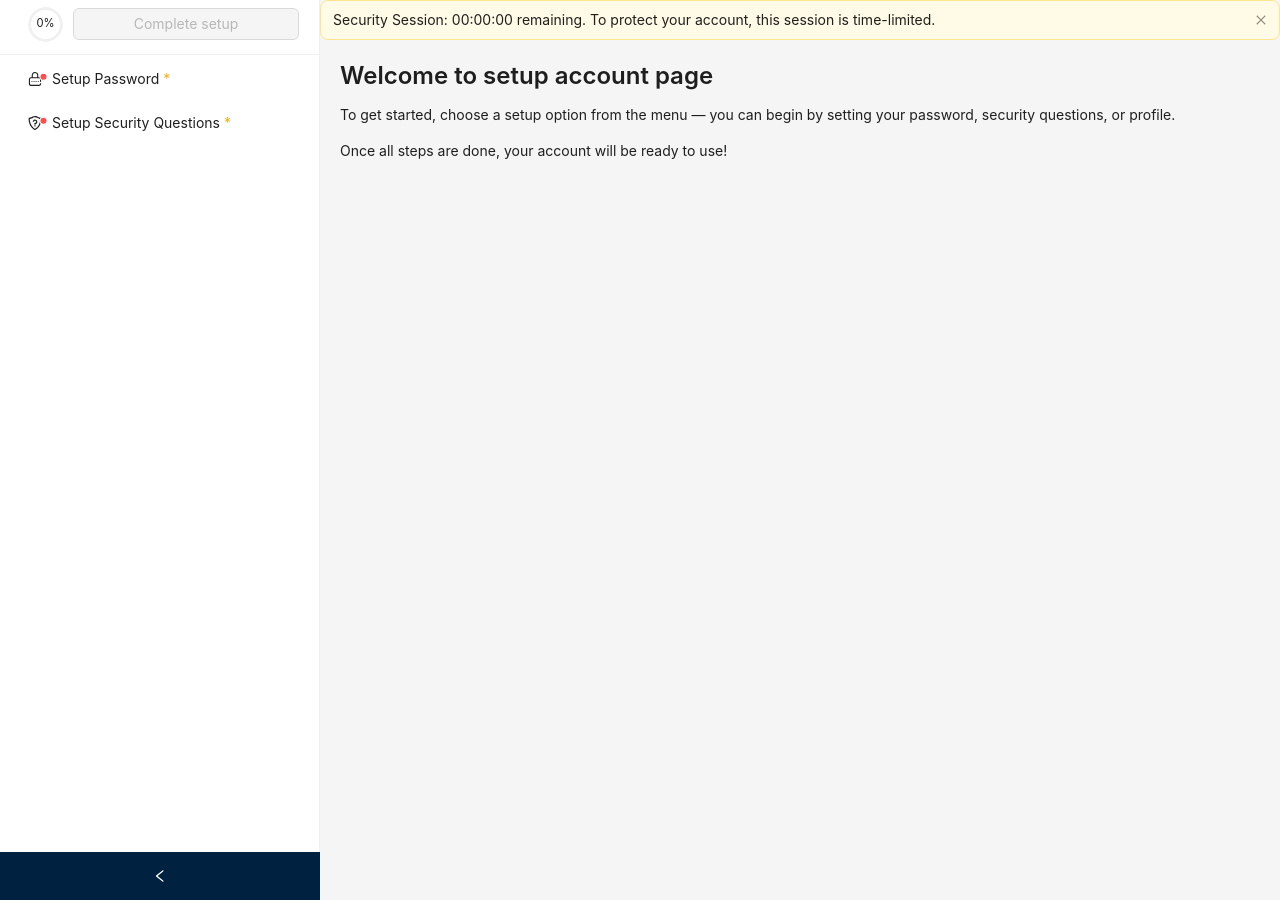
Test case: SetupAccountPage - Password setup flow › should render Setup password form correctly
This screenshot has width=1280, height=900.
Click the menu item "Setup Password *" at (99, 78), box [28,70,170,87]
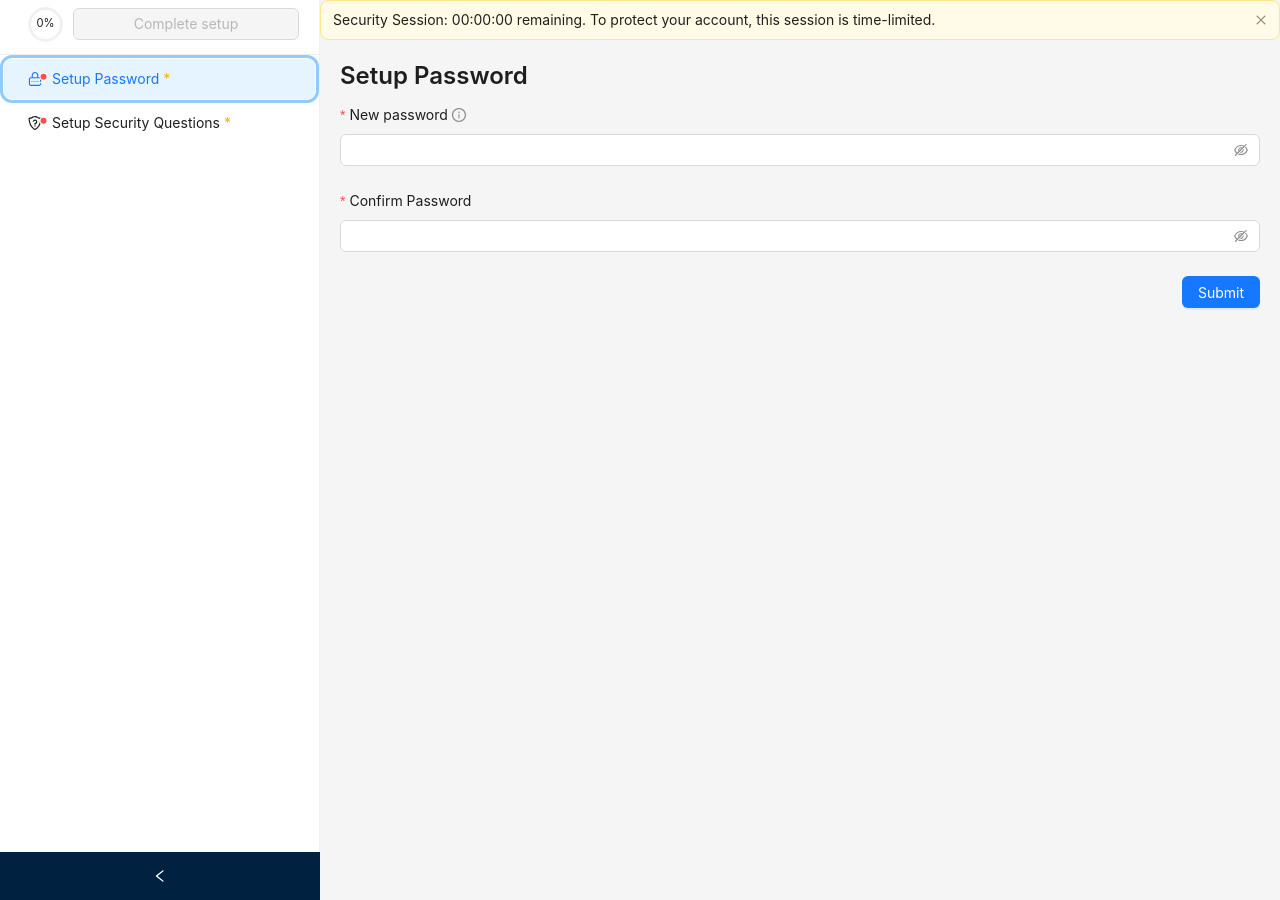
Expected: the button "Submit" is shown, [1182,276,1260,308]
